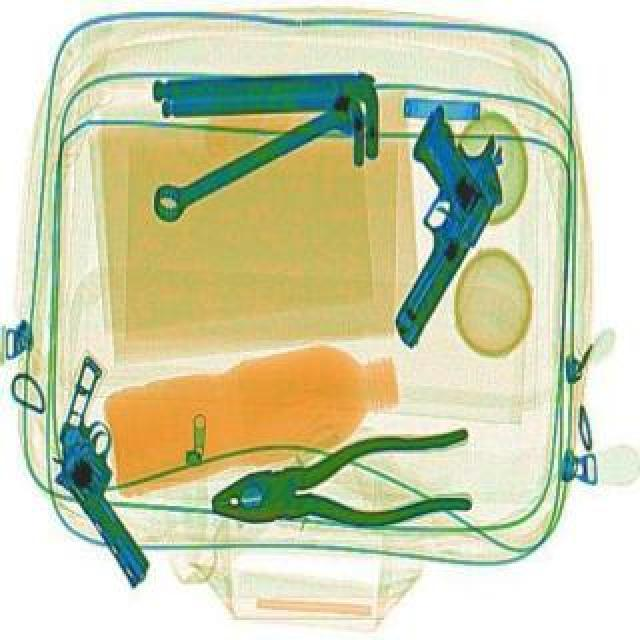gun: (314, 100, 534, 350), (18, 348, 170, 596)
scissors: (144, 84, 378, 228)
wrench: (204, 422, 482, 550)
